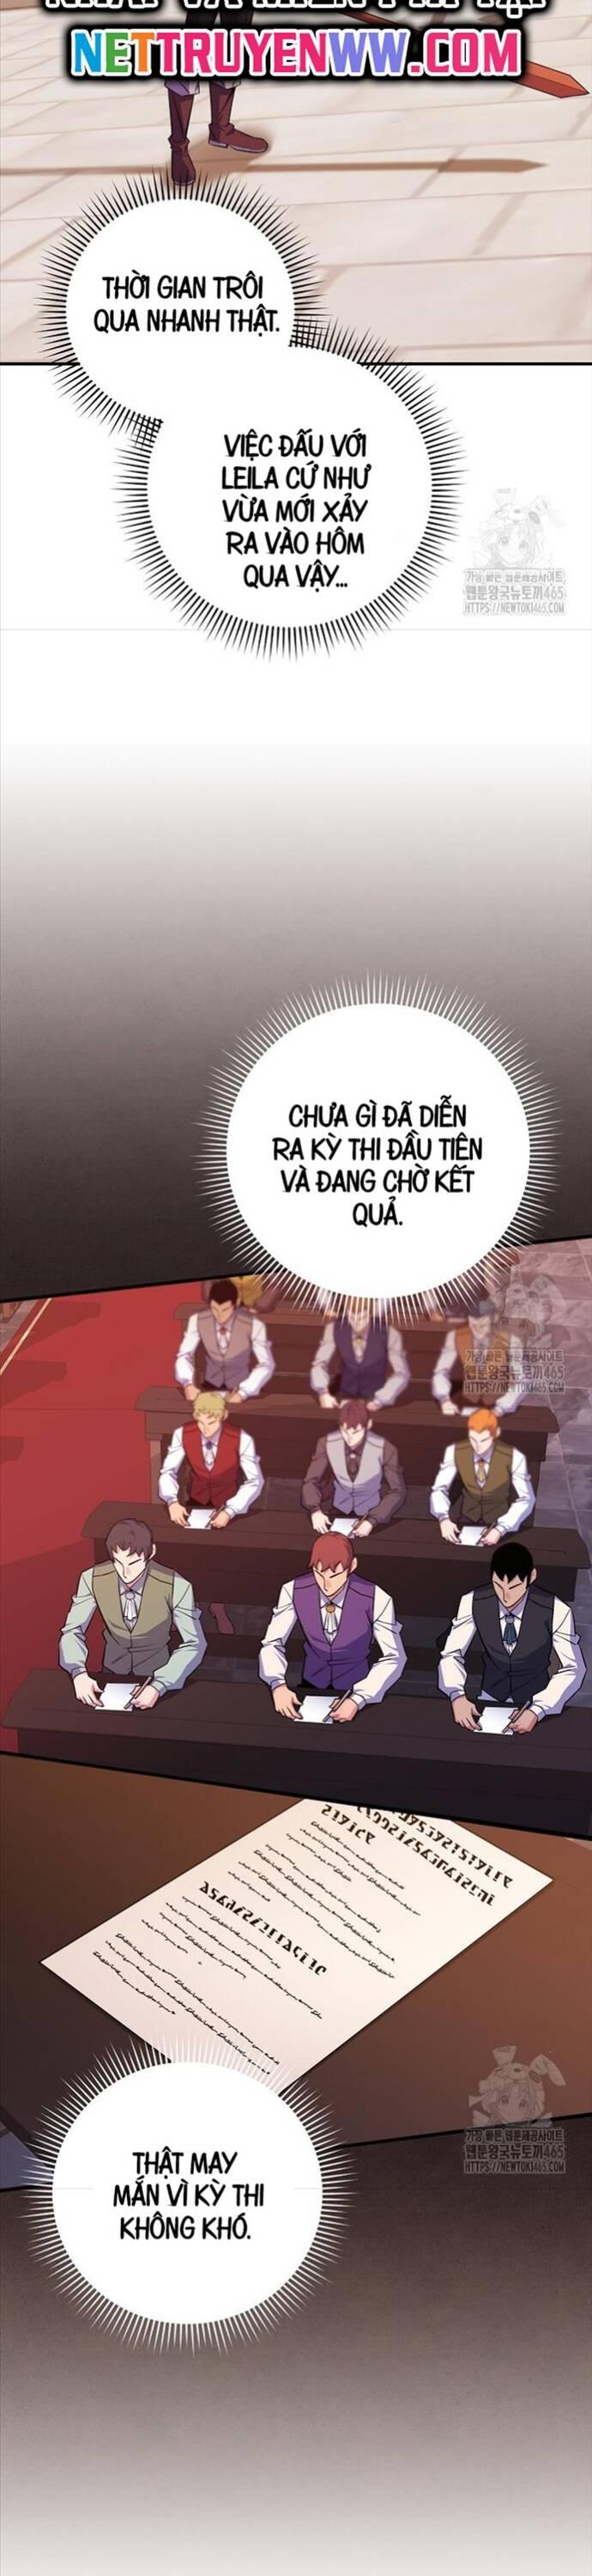quangcao: (26, 0, 592, 103)
